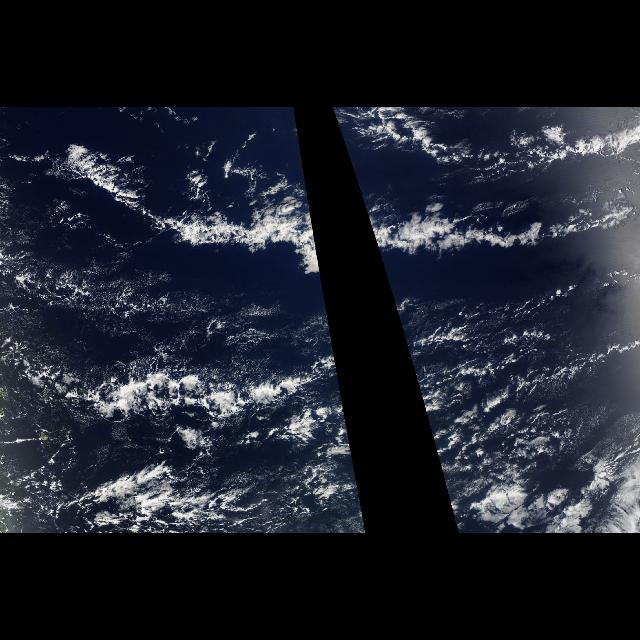Fish: (10, 111, 368, 534), (332, 111, 640, 534)
Gravel: (2, 264, 332, 534)
